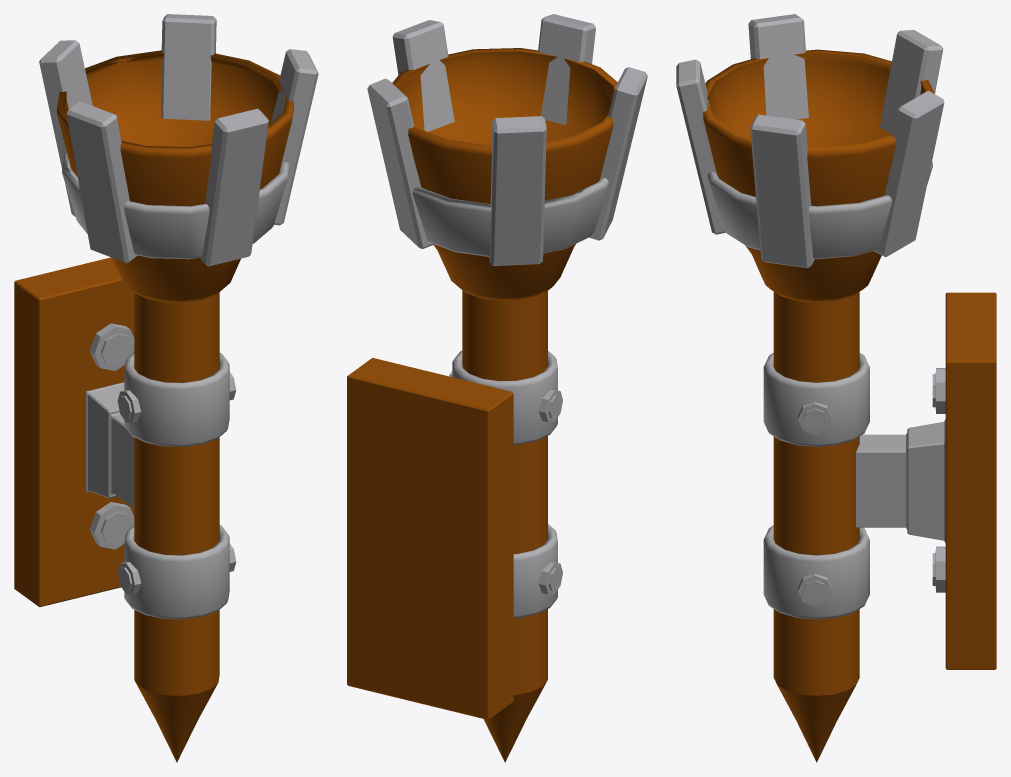
The model's file is wall_torch.glb.
3 views of the same model, side by side, from view 1: azimuth 30°, elevation 25°; view 2: azimuth 150°, elevation 25°; view 3: azimuth 270°, elevation 25° (orthographic).
Parts seen in each view (by area): view 1: wall_mount, crown_prongs, shaft, brazier, top_band, bottom_band, crown, mount, top_bolt, bottom_bolt, top_bolt.001, bottom_bolt.001; view 2: wall_mount, brazier, crown_prongs, shaft, crown, top_band, bottom_band, top_bolt.001, bottom_bolt.001; view 3: crown_prongs, shaft, brazier, wall_mount, mount, top_band, crown, bottom_band, top_bolt.001, bottom_bolt.001, bottom_bolt, top_bolt.
Part boxes in pixels (x1=…): wall_mount: x1=14, y1=257, x2=134, y2=607; crown_prongs: x1=39, y1=14, x2=318, y2=266; shaft: x1=134, y1=292, x2=219, y2=762; brazier: x1=57, y1=50, x2=293, y2=302; top_band: x1=124, y1=353, x2=229, y2=446; bottom_band: x1=124, y1=525, x2=229, y2=619; crown: x1=62, y1=153, x2=289, y2=259; mount: x1=86, y1=382, x2=134, y2=508; top_bolt: x1=89, y1=323, x2=134, y2=370; bottom_bolt: x1=89, y1=502, x2=134, y2=549; top_bolt.001: x1=117, y1=372, x2=236, y2=422; bottom_bolt.001: x1=117, y1=543, x2=236, y2=594; wall_mount: x1=347, y1=357, x2=513, y2=719; brazier: x1=392, y1=48, x2=617, y2=300; crown_prongs: x1=367, y1=14, x2=647, y2=265; shaft: x1=462, y1=290, x2=547, y2=762; crown: x1=412, y1=178, x2=608, y2=256; top_band: x1=452, y1=351, x2=557, y2=444; bottom_band: x1=513, y1=524, x2=557, y2=618; top_bolt.001: x1=449, y1=371, x2=562, y2=422; bottom_bolt.001: x1=538, y1=562, x2=562, y2=594; crown_prongs: x1=676, y1=14, x2=944, y2=268; shaft: x1=773, y1=292, x2=859, y2=762; brazier: x1=703, y1=49, x2=934, y2=302; wall_mount: x1=945, y1=292, x2=996, y2=669; mount: x1=856, y1=419, x2=945, y2=542; top_band: x1=763, y1=353, x2=869, y2=446; crown: x1=707, y1=161, x2=932, y2=259; bottom_band: x1=763, y1=525, x2=869, y2=619; top_bolt.001: x1=798, y1=402, x2=832, y2=434; bottom_bolt.001: x1=798, y1=574, x2=832, y2=606; bottom_bolt: x1=932, y1=546, x2=945, y2=592; top_bolt: x1=932, y1=368, x2=945, y2=413.
Size of the model in its own units: 4.17 by 11.35 by 4.75.
Materials: 12 (12 with a texture image).
